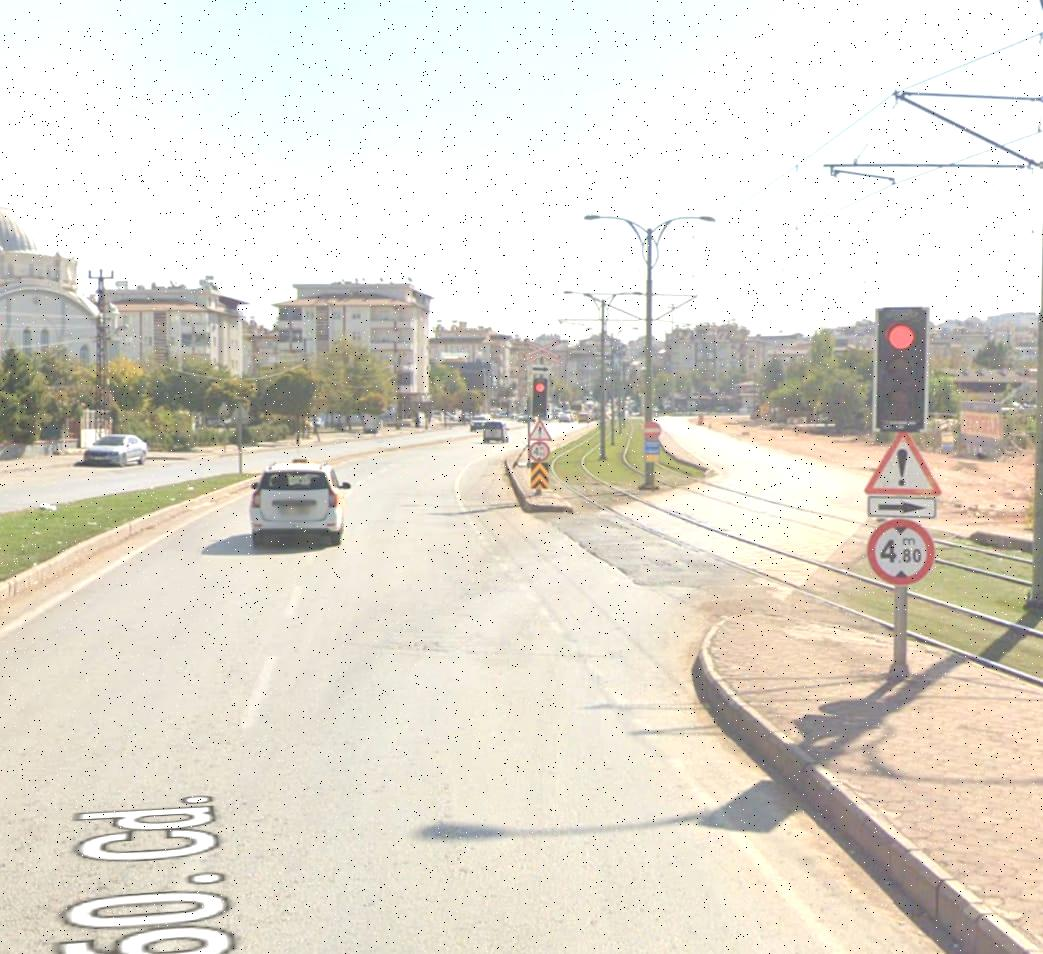redlight: (877, 305, 927, 418)
